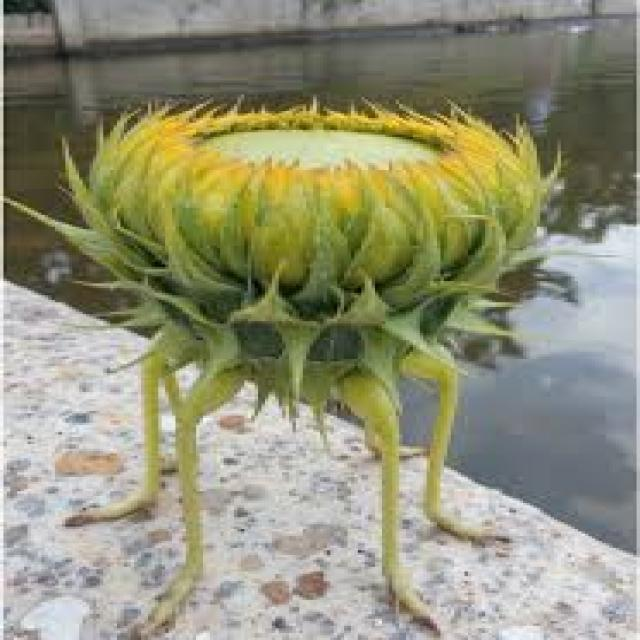Unbloomed: (21, 67, 589, 337)
